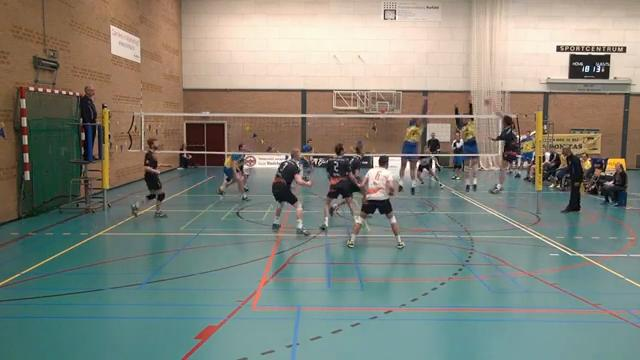attacco: (485, 96, 520, 197)
muro: (394, 105, 431, 192), (451, 94, 482, 194)
